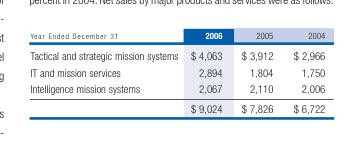table: (29, 29, 324, 114)
table column: (29, 29, 183, 114), (231, 29, 282, 114), (183, 29, 231, 114), (282, 29, 324, 114)
table column header: (29, 29, 324, 44)
table row: (29, 44, 324, 63), (29, 80, 324, 98), (29, 63, 324, 80), (29, 98, 324, 114), (29, 29, 324, 44)
